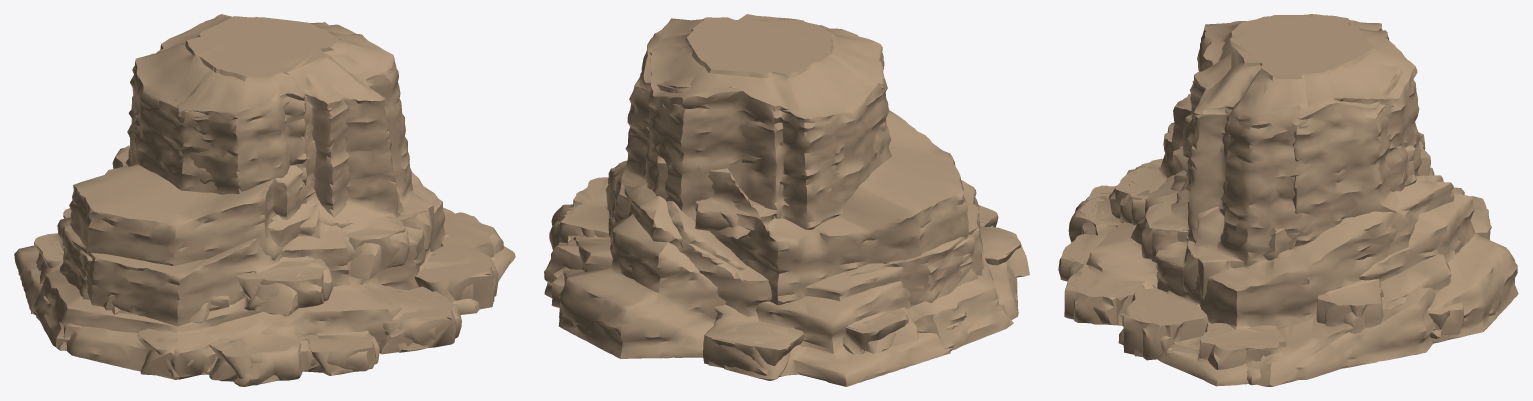
The model's file is tiered-escarpment-kit.glb.
3 views of the same model, side by side, from view 1: azimuth 30°, elevation 25°; view 2: azimuth 150°, elevation 25°; view 3: azimuth 270°, elevation 25° (orthographic). The views are drawn at different scales.
Parts seen in each view (by area): view 1: escarpment-0-lod0, escarpment-2-lod0, escarpment-1-lod0, escarpment-3-lod0; view 2: escarpment-2-lod0, escarpment-1-lod0, escarpment-0-lod0, escarpment-3-lod0; view 3: escarpment-0-lod0, escarpment-2-lod0, escarpment-3-lod0, escarpment-1-lod0.
Part boxes in pixels (left/top/right/bottom): escarpment-0-lod0: left=34, top=18, right=515, bottom=386; escarpment-2-lod0: left=14, top=14, right=503, bottom=384; escarpment-1-lod0: left=33, top=23, right=495, bottom=380; escarpment-3-lod0: left=40, top=18, right=498, bottom=381; escarpment-2-lod0: left=558, top=19, right=1029, bottom=386; escarpment-1-lod0: left=551, top=19, right=1010, bottom=367; escarpment-0-lod0: left=549, top=14, right=1018, bottom=380; escarpment-3-lod0: left=544, top=19, right=1021, bottom=375; escarpment-0-lod0: left=1058, top=15, right=1474, bottom=386; escarpment-2-lod0: left=1064, top=14, right=1518, bottom=369; escarpment-3-lod0: left=1060, top=17, right=1490, bottom=385; escarpment-1-lod0: left=1068, top=19, right=1491, bottom=386.
Size of what is drawn, in the model's own units: 1.95 by 1 by 1.74.
